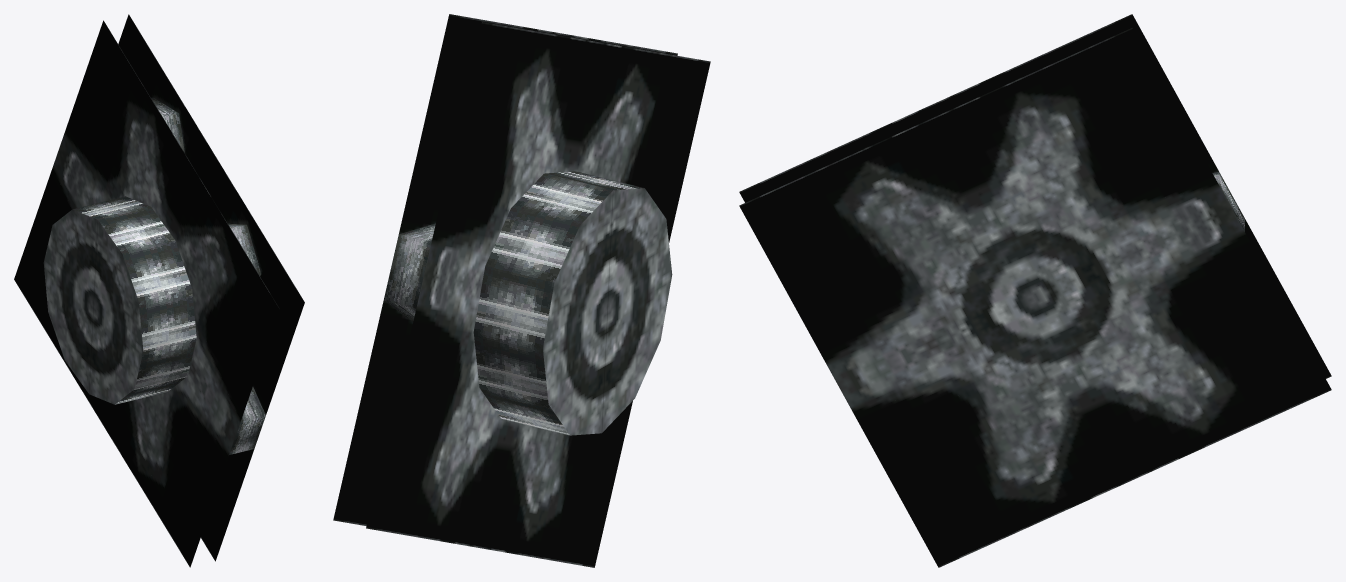
The model's file is INST_PUZZLE_PIECE1_PIECE1_SILVER.fbx.
3 renders of one model, left to right at view 1: azimuth 30°, elevation 25°; view 2: azimuth 150°, elevation 25°; view 3: azimuth 270°, elevation 25°, orthographic. The views are drawn at different scales.
Visible parts, largest first — view 1: INST_PUZZLE_PIECE1_PIECE1_SILVER; view 2: INST_PUZZLE_PIECE1_PIECE1_SILVER; view 3: INST_PUZZLE_PIECE1_PIECE1_SILVER.
Boxes of the visible parts, x1,y1,x2,y2 form: INST_PUZZLE_PIECE1_PIECE1_SILVER: [14, 14, 304, 567]; INST_PUZZLE_PIECE1_PIECE1_SILVER: [333, 14, 710, 567]; INST_PUZZLE_PIECE1_PIECE1_SILVER: [739, 14, 1331, 567].
Bounding box in the file's own units: 783 × 4613 × 4588.
3 materials, 3 textured.
